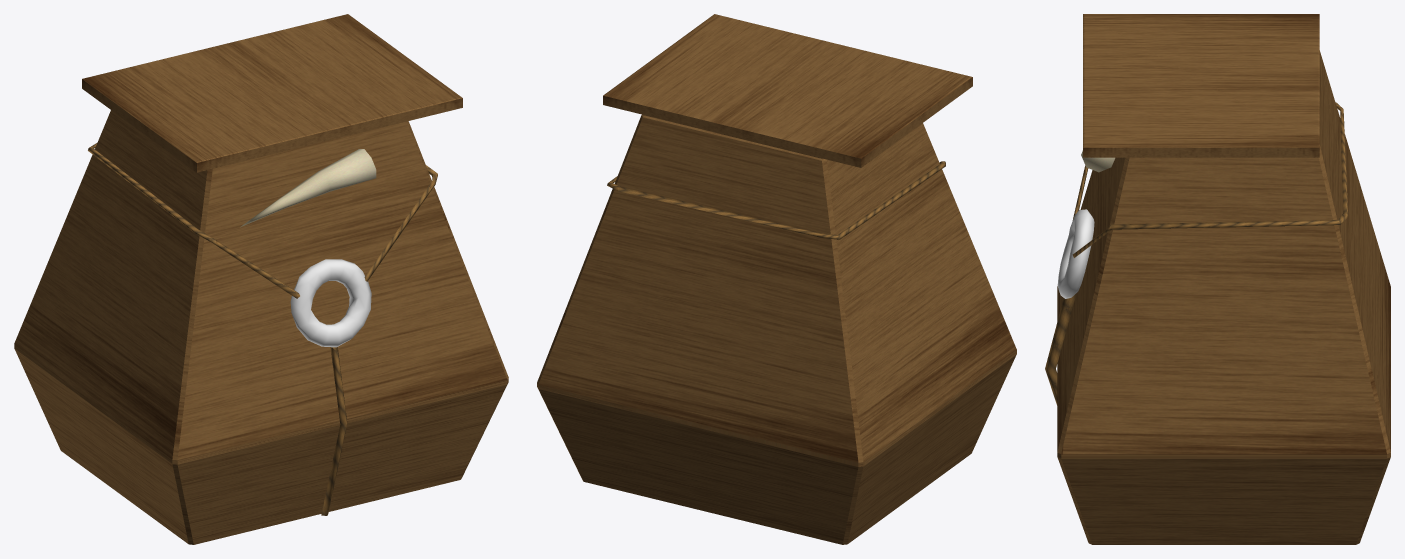
Rendered from wooden_container.FBX.
3 views of the same model, side by side, from view 1: azimuth 30°, elevation 25°; view 2: azimuth 150°, elevation 25°; view 3: azimuth 270°, elevation 25° (orthographic). The views are drawn at different scales.
Visible parts, largest first — view 1: Box001, Box002, Object, Torus001, Cone001; view 2: Box001, Box002, Torus001; view 3: Box001, Box002, Torus001, Object.
Boxes of the visible parts, <box> form: Box001: <box>14,110,508,544</box>; Box002: <box>82,14,462,172</box>; Object: <box>290,259,371,347</box>; Torus001: <box>88,143,437,515</box>; Cone001: <box>240,149,376,227</box>; Box001: <box>537,114,1016,544</box>; Box002: <box>603,14,972,167</box>; Torus001: <box>607,161,945,239</box>; Box001: <box>1057,50,1390,544</box>; Box002: <box>1083,14,1319,157</box>; Torus001: <box>1045,102,1347,405</box>; Object: <box>1057,209,1094,298</box>.
Size of the model in its own units: 4925 by 5378 by 4259.
Materials: 4 (4 with a texture image).
